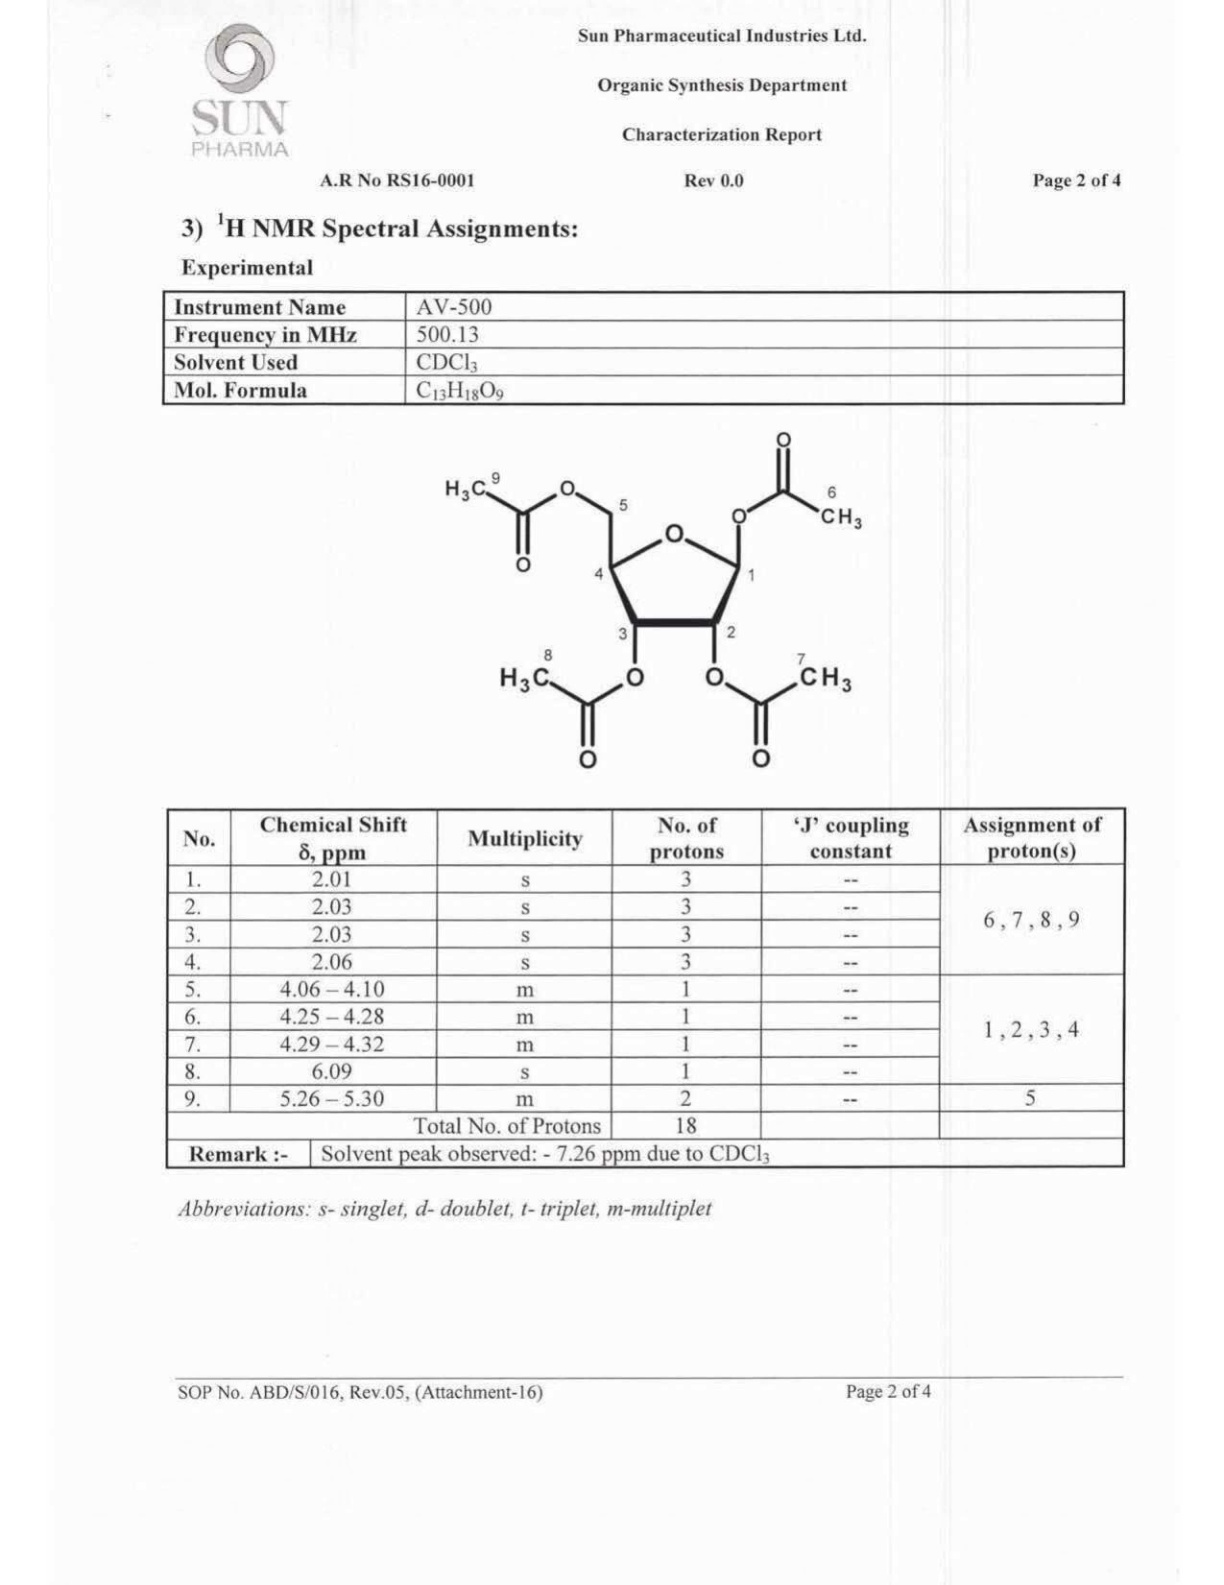full_lined: (161, 289, 1126, 406)
merged_cells: (165, 806, 1128, 1170)
